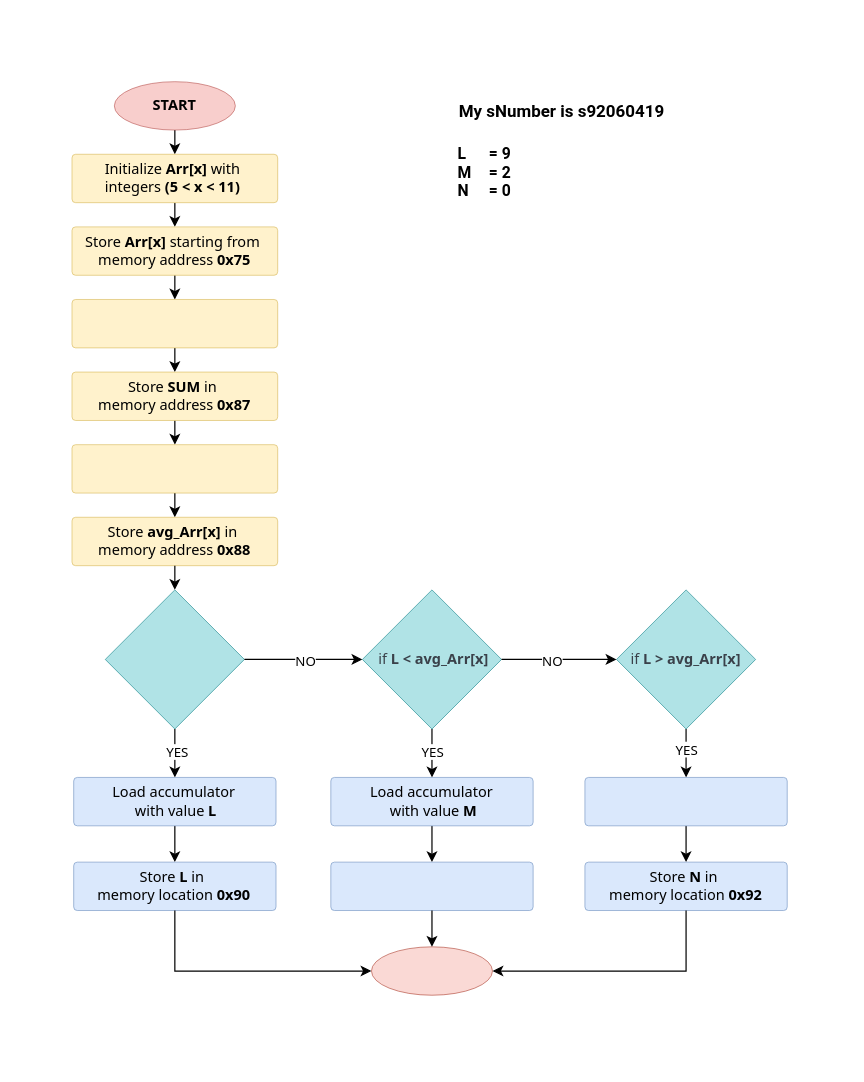
This 864x1082 diagram has some shape labels left out. Each missing label, with the box of its shape:
Calculate avg_Arr[x]: (71, 444, 277, 493)
END: (371, 946, 492, 995)
if L - avg_Arr[x] is equal to 0: (104, 589, 244, 729)
Load accumulator with value N: (584, 777, 787, 826)
Loop through each element in Arr[x] to get the SUM: (71, 299, 277, 348)
Store M in memory location 0x91: (330, 861, 533, 910)
